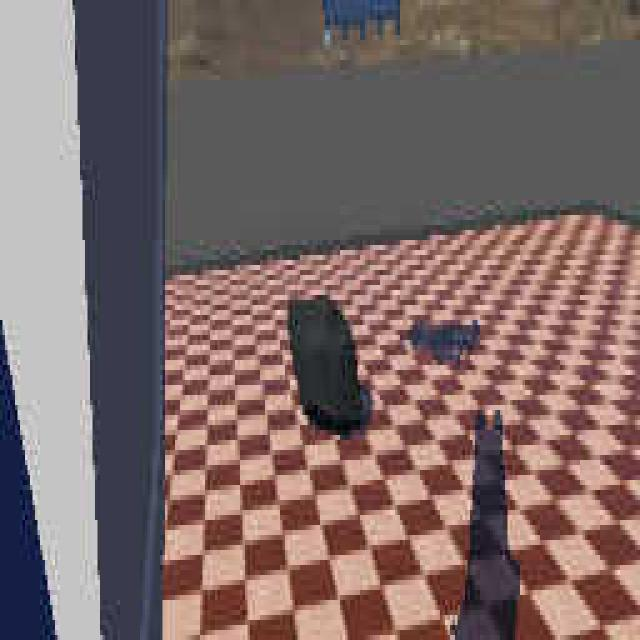rock: (286, 291, 365, 433)
